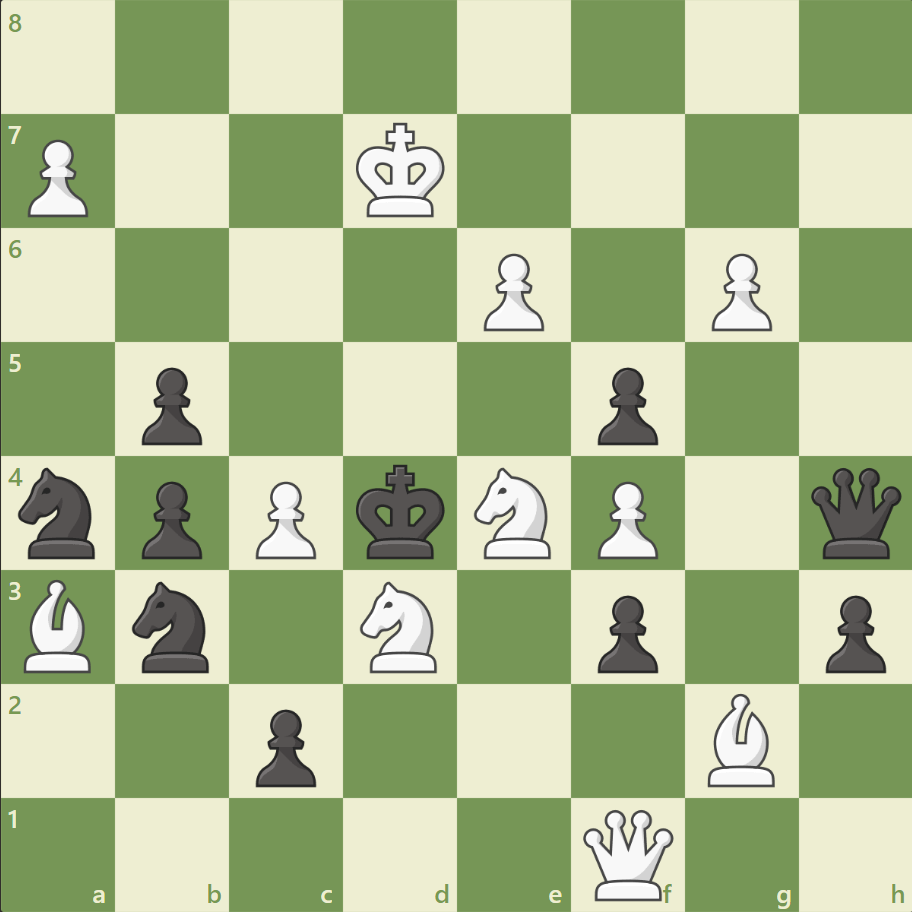B: (698, 687, 782, 790), (17, 574, 101, 676)
K: (351, 117, 451, 225)
N: (351, 575, 449, 677), (465, 461, 562, 564)
P: (20, 132, 95, 223), (474, 246, 549, 337), (701, 246, 776, 337), (247, 473, 322, 564), (588, 473, 662, 564)
Q: (578, 804, 677, 903)
k: (351, 458, 451, 566)
n: (124, 575, 222, 677), (11, 461, 108, 564)
p: (133, 359, 208, 450), (133, 473, 208, 564), (247, 700, 322, 791), (588, 359, 662, 450), (588, 586, 662, 677), (815, 586, 889, 677)
q: (805, 463, 904, 562)
